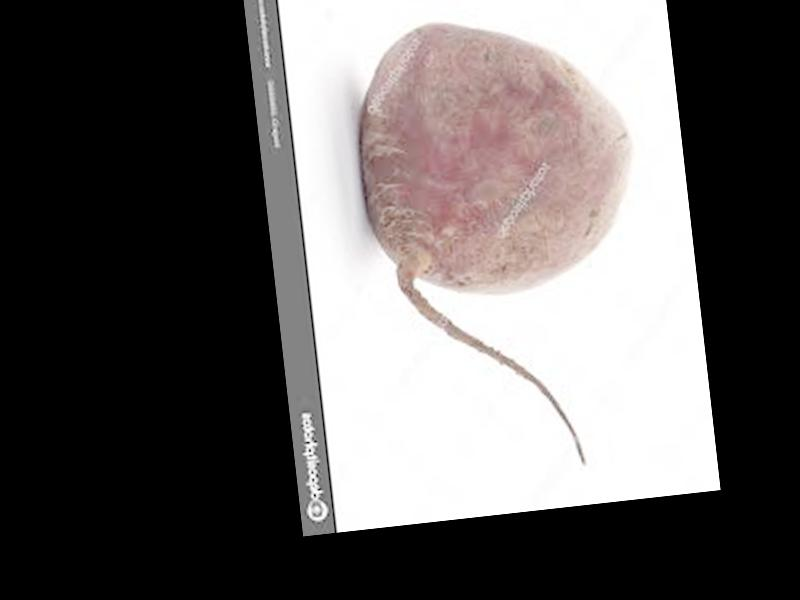Beet: (346, 4, 662, 484)
